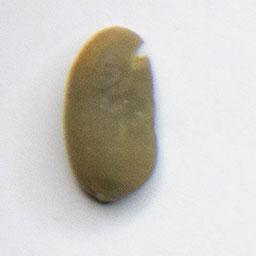peaberry: (58, 21, 164, 206)
